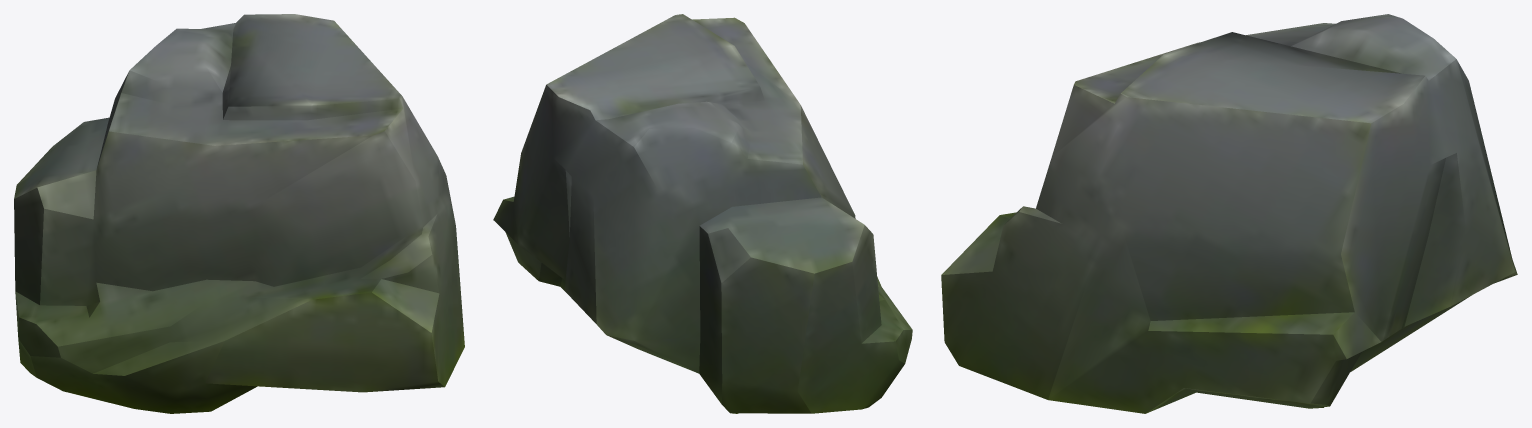
The model's file is Rock_Medium_3.glb.
The picture shows the model from 3 angles, left to right: view 1: azimuth 30°, elevation 25°; view 2: azimuth 150°, elevation 25°; view 3: azimuth 270°, elevation 25°; orthographic projection. The views are drawn at different scales.
Visible parts, largest first — view 1: Rock_Medium_3; view 2: Rock_Medium_3; view 3: Rock_Medium_3.
Part boxes in pixels (box(x1,y1,x2,y2)): Rock_Medium_3: box(14, 14, 464, 413); Rock_Medium_3: box(493, 14, 912, 413); Rock_Medium_3: box(941, 14, 1517, 413).
Size of the model in its own units: 3.42 by 2.32 by 3.48.
Materials: 1 (1 with a texture image).
